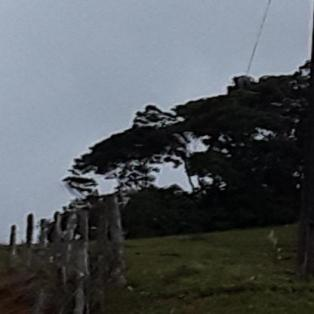Poste: (287, 0, 314, 279)
